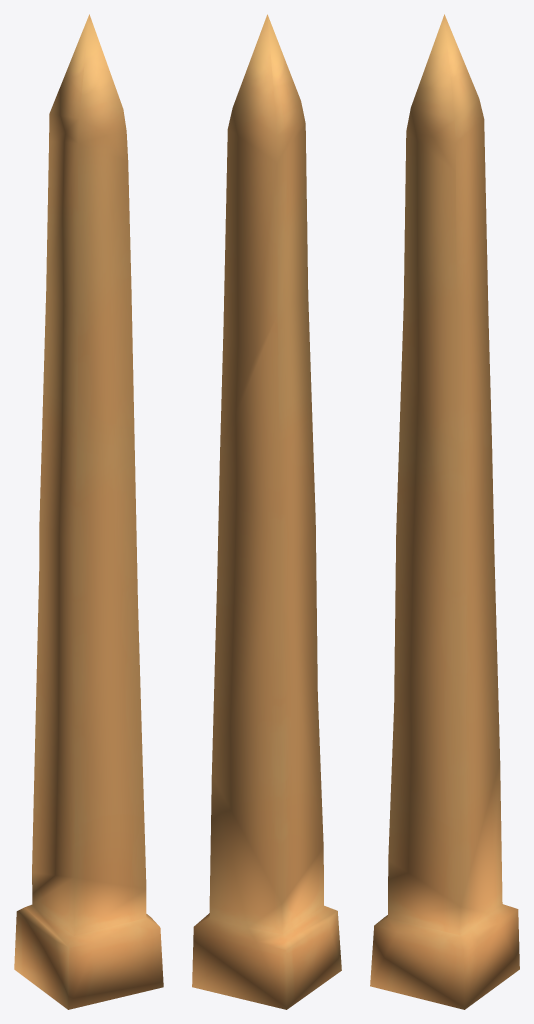
File: Obelisk_01.fbx
3 views of the same model, side by side, from view 1: azimuth 30°, elevation 25°; view 2: azimuth 150°, elevation 25°; view 3: azimuth 330°, elevation 25° (orthographic).
Parts seen in each view (by area): view 1: Obelisk_01; view 2: Obelisk_01; view 3: Obelisk_01.
Part boxes in pixels (x1=…): Obelisk_01: x1=14, y1=14, x2=163, y2=1009; Obelisk_01: x1=192, y1=14, x2=341, y2=1009; Obelisk_01: x1=370, y1=14, x2=519, y2=1009.
Bounding box in the file's own units: 202 × 1948 × 201.
Materials: 1 (1 with a texture image).
